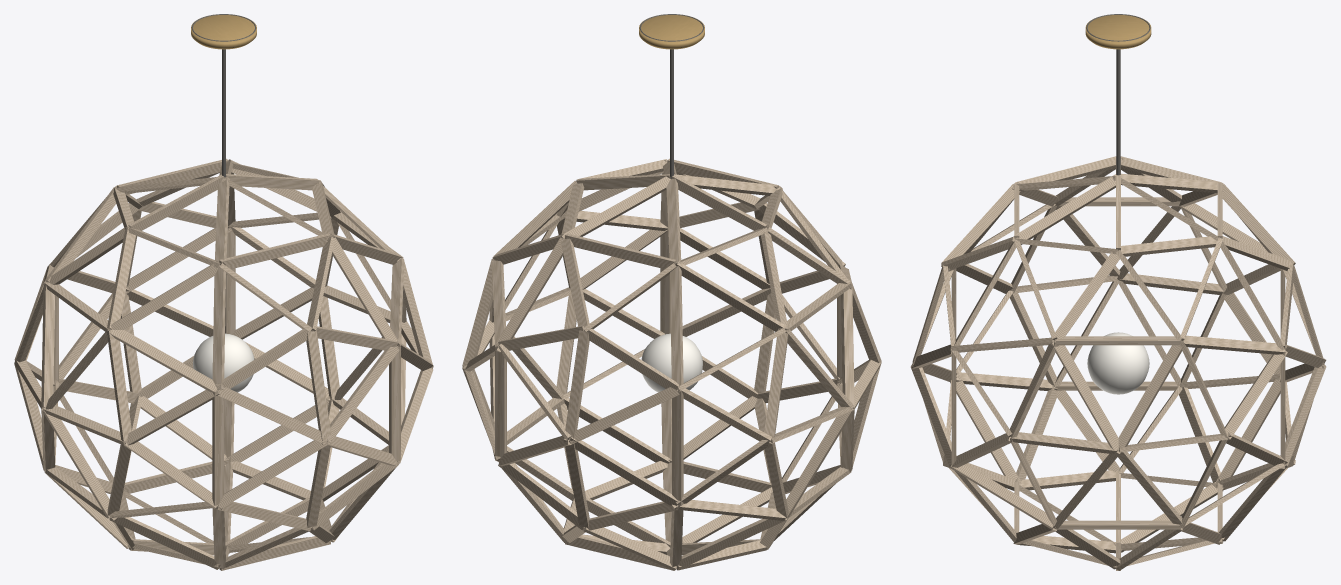
File: kowhai-hero-din-03.glb
The picture shows the model from 3 angles, left to right: view 1: azimuth 30°, elevation 25°; view 2: azimuth 150°, elevation 25°; view 3: azimuth 270°, elevation 25°; orthographic projection.
Visible parts, largest first — view 1: SubPart (×84); view 2: SubPart (×85); view 3: SubPart (×77).
Part boxes in pixels (x1,y1,x2,y2): SubPart (×84): (14, 14, 433, 570); SubPart (×85): (462, 15, 881, 570); SubPart (×77): (911, 15, 1326, 570).
Bounding box in the file's own units: 0.6987 × 0.9687 × 0.6955.
4 materials, 2 textured.
